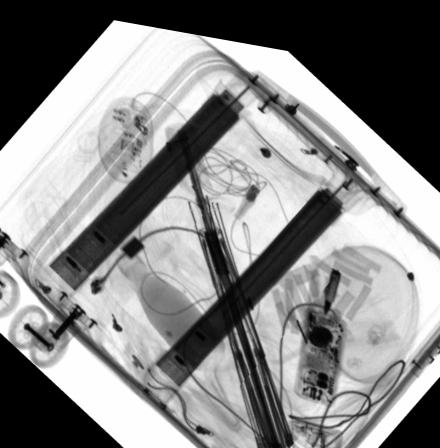Bullet: (323, 255, 342, 305)
